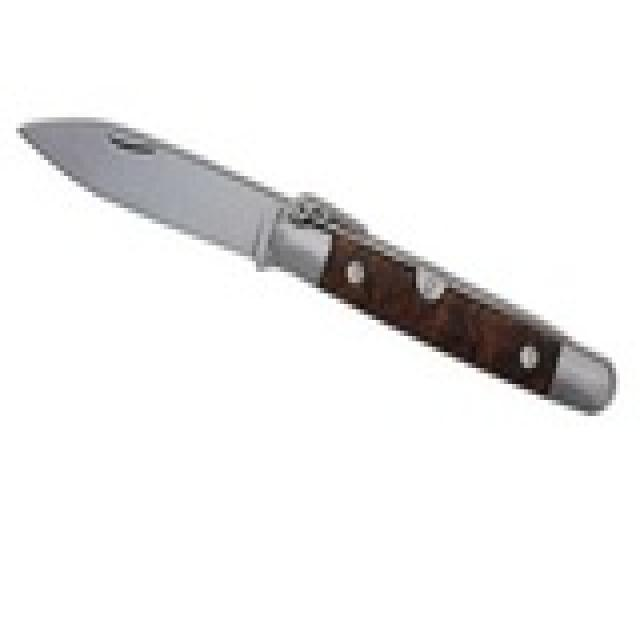Knife: (12, 104, 614, 416)
